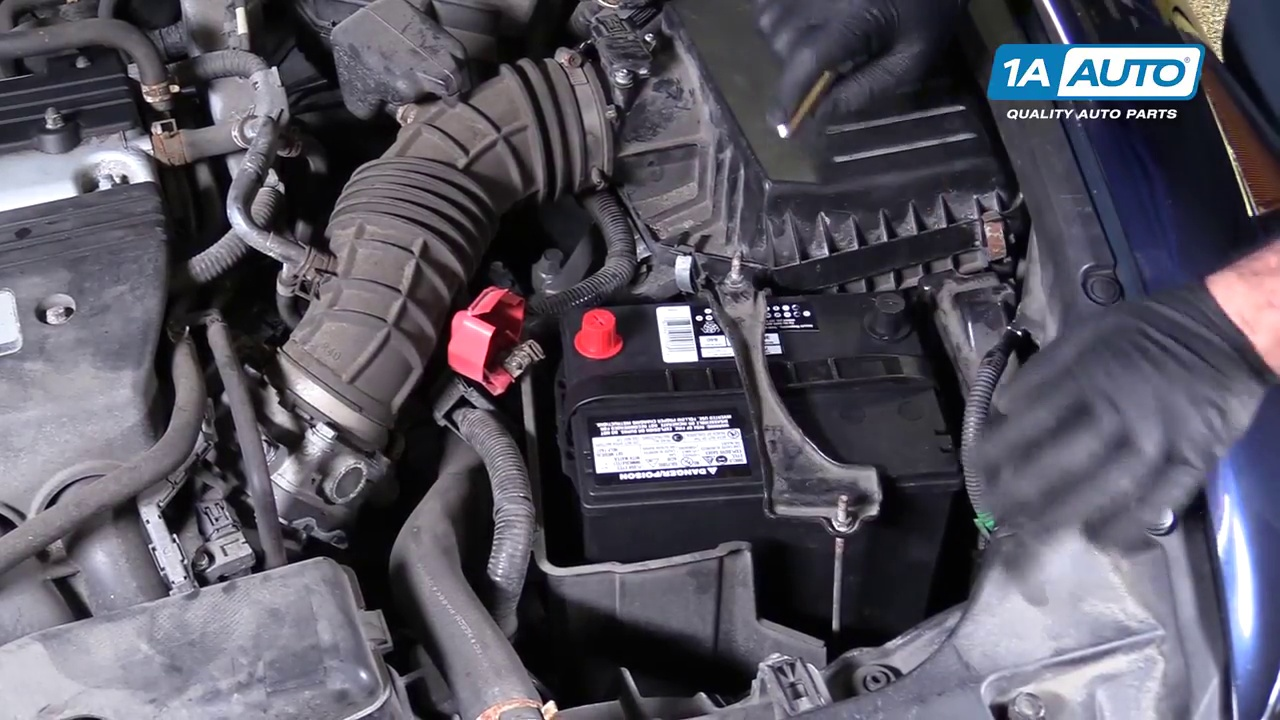battery: (555, 291, 947, 502)
pos_disconnected: (442, 262, 636, 397)
